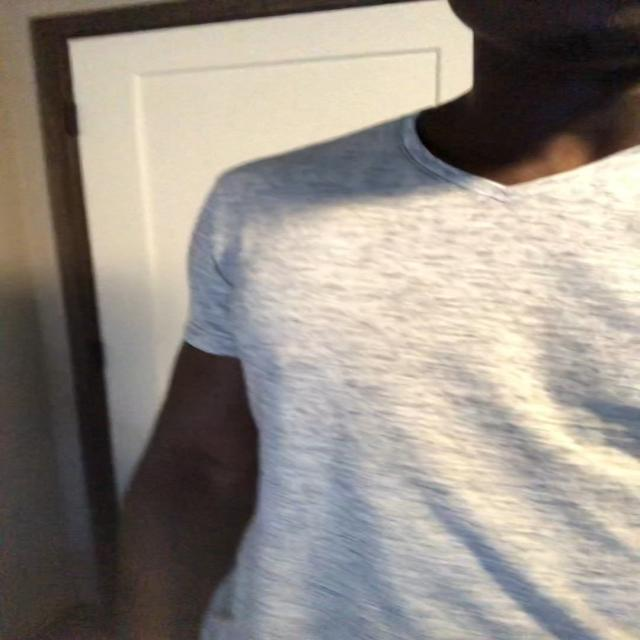face: (448, 0, 640, 69)
